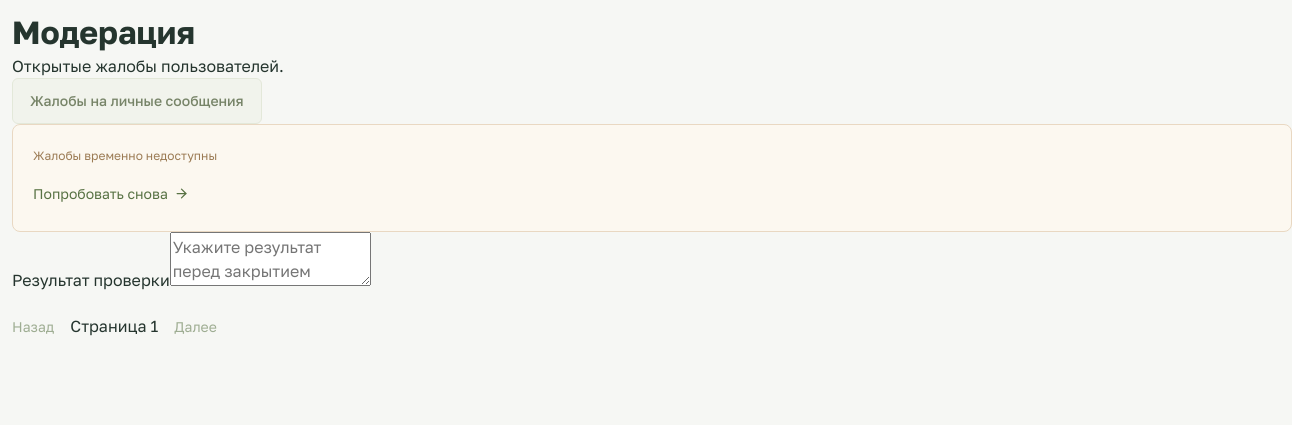
Test: moderation load errors stop the spinner and can retry without losing the review note
Expected: the text "Жалобы временно недоступны" is shown, [33, 148, 217, 163]
Type "Проверяю обращение" into the text box labelled "Результат проверки" at (270, 260), box [170, 232, 371, 286]
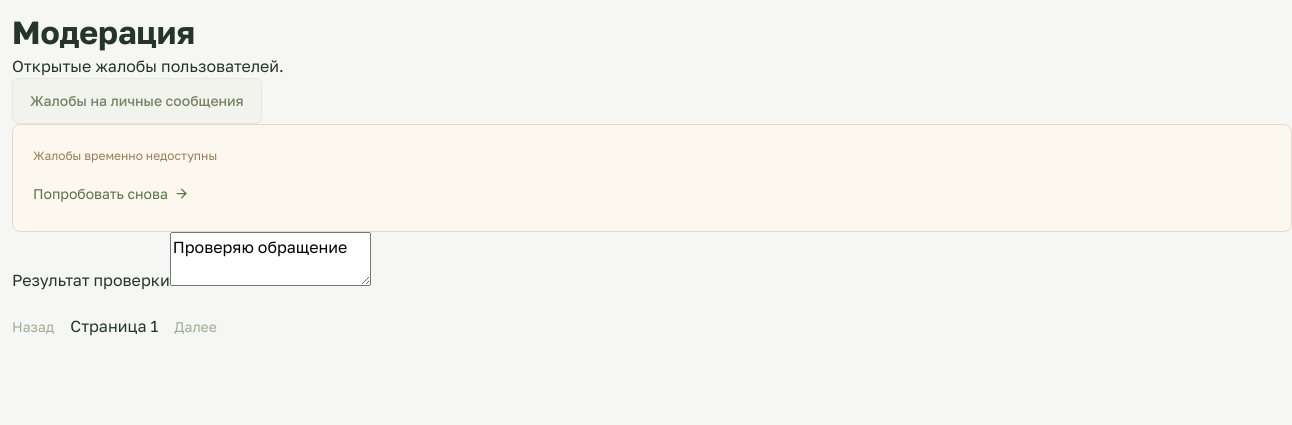
Click the button "Попробовать снова" at (111, 194), box [33, 176, 189, 212]
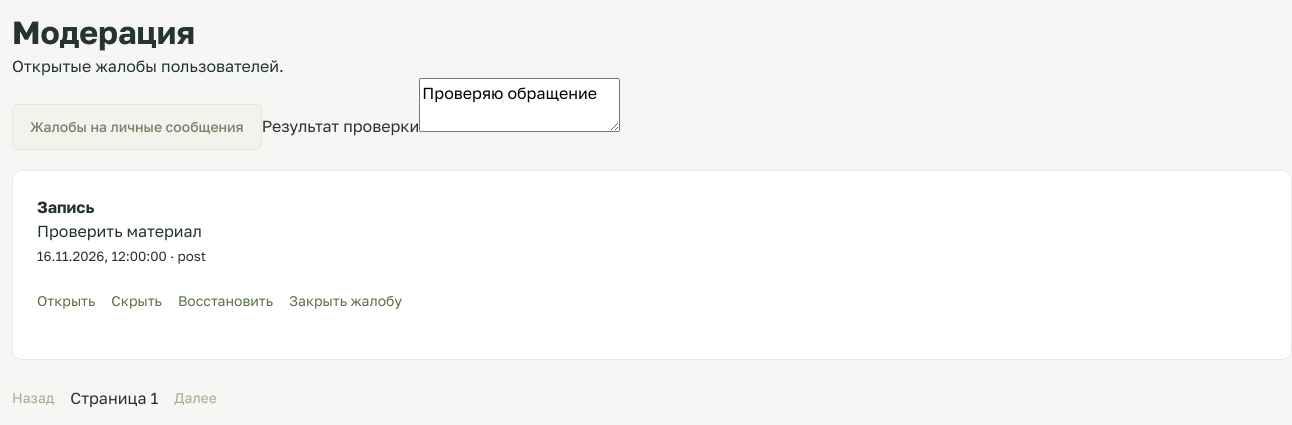
Expected: the text "Проверить материал" is shown, [37, 221, 202, 241]
